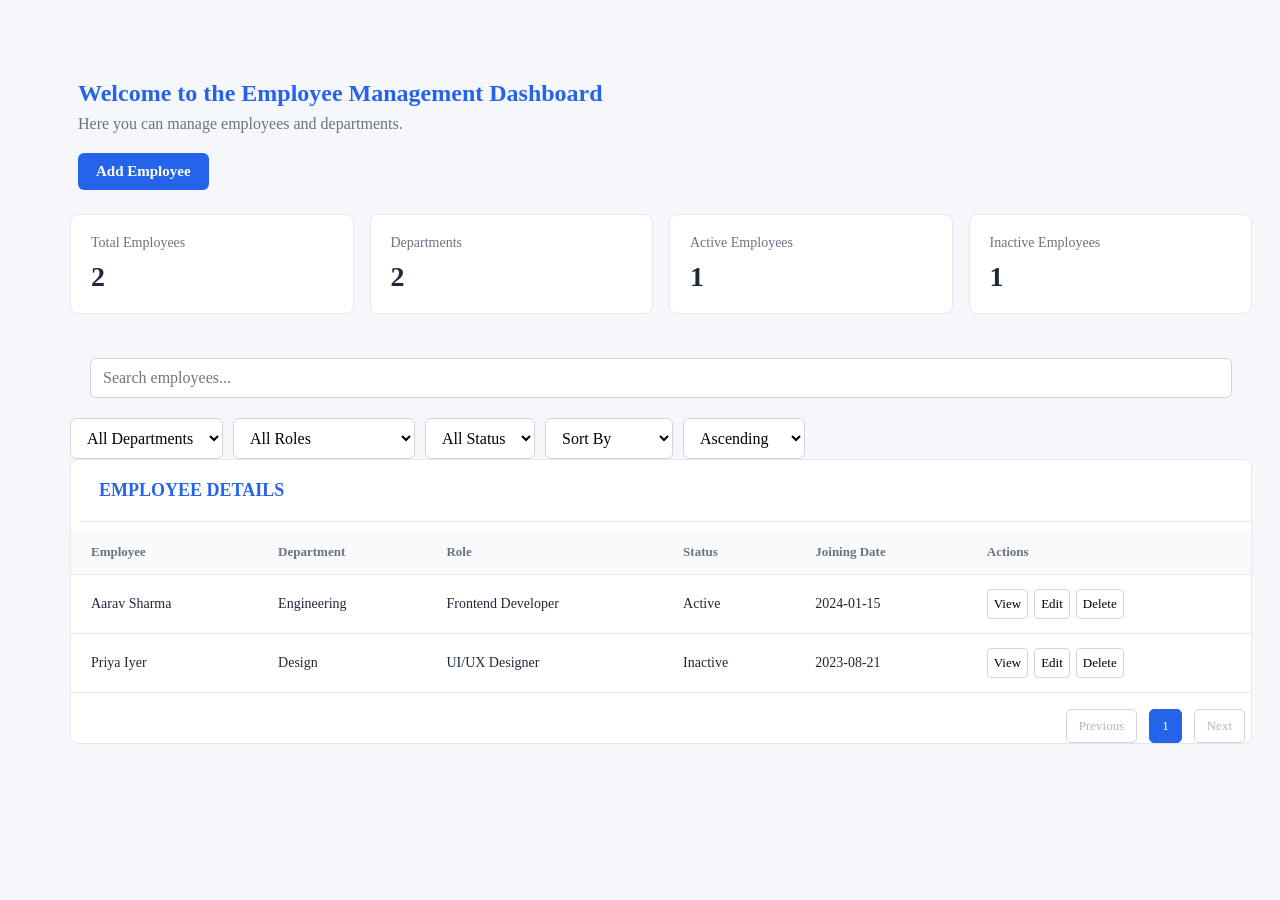
Test: Filter › should filter employees by department
Select "Engineering" in the 1st dropdown showing "All Departments" at [146, 438], box top-left (70, 418), bottom-right (223, 459)
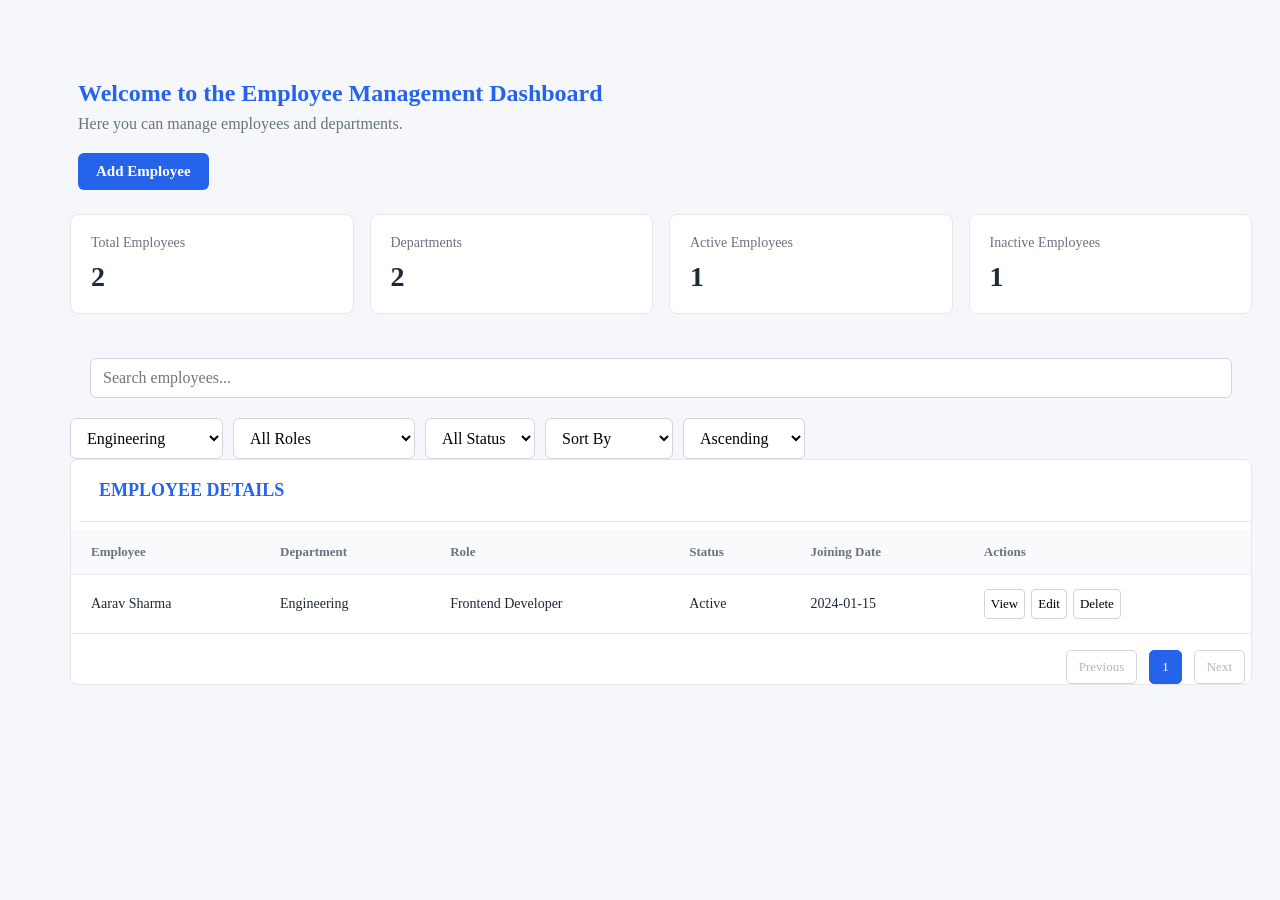
Check: the text "Aarav Sharma" is shown, box top-left (71, 574), bottom-right (260, 634)
Check: the text "Priya Iyer" is gone
